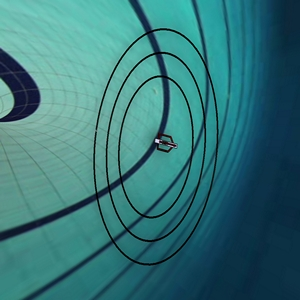circle: (76, 19, 232, 276)
submarine: (141, 121, 186, 165)
